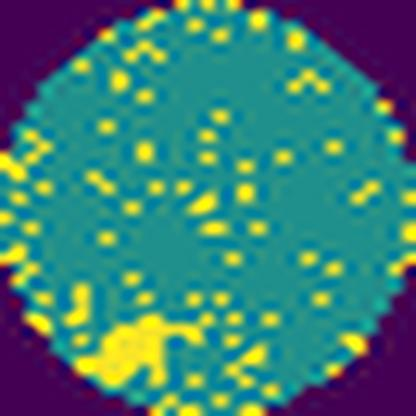Loc: (75, 309, 219, 390)
